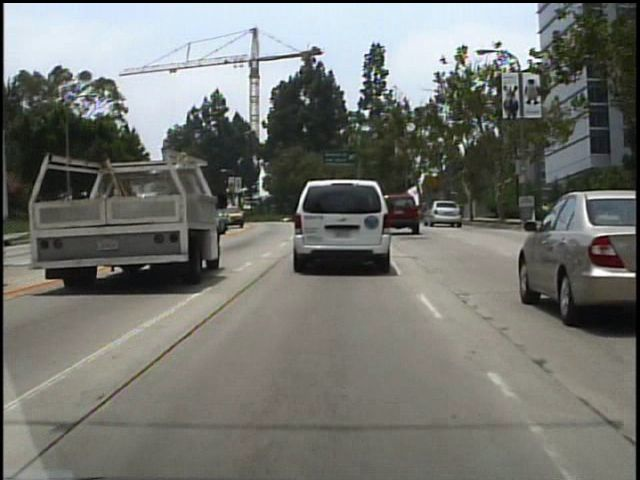person: (422, 195, 426, 225)
